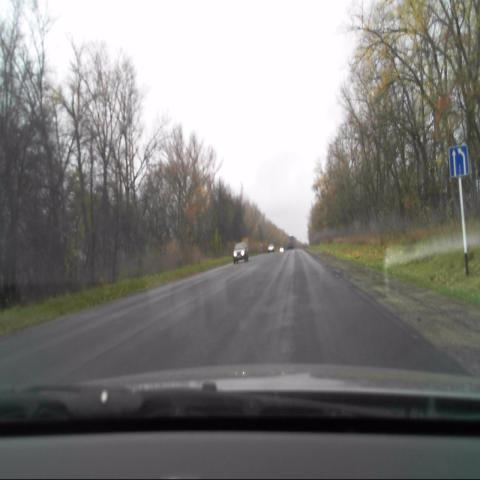5_15_5: (448, 146, 470, 179)
